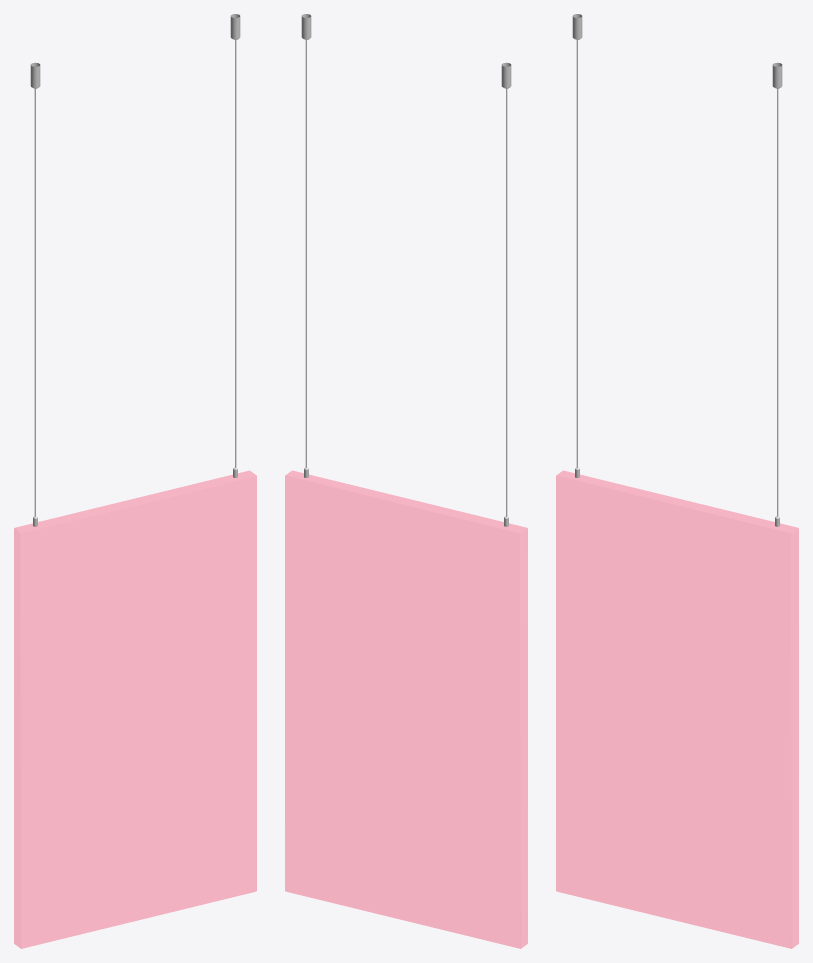
File: Painting.fbx
3 renders of one model, left to right at view 1: azimuth 30°, elevation 25°; view 2: azimuth 150°, elevation 25°; view 3: azimuth 330°, elevation 25°, orthographic.
Visible parts, largest first — view 1: Canvas, CanvaHolder; view 2: Canvas, CanvaHolder; view 3: Canvas, CanvaHolder.
Part boxes in pixels (x1,y1,x2,y2): Canvas: (14, 470, 256, 948); CanvaHolder: (30, 14, 240, 526); Canvas: (285, 470, 527, 948); CanvaHolder: (301, 14, 511, 526); Canvas: (556, 470, 798, 948); CanvaHolder: (572, 14, 782, 526).
Size of the model in its own units: 56.44 by 200 by 3.
